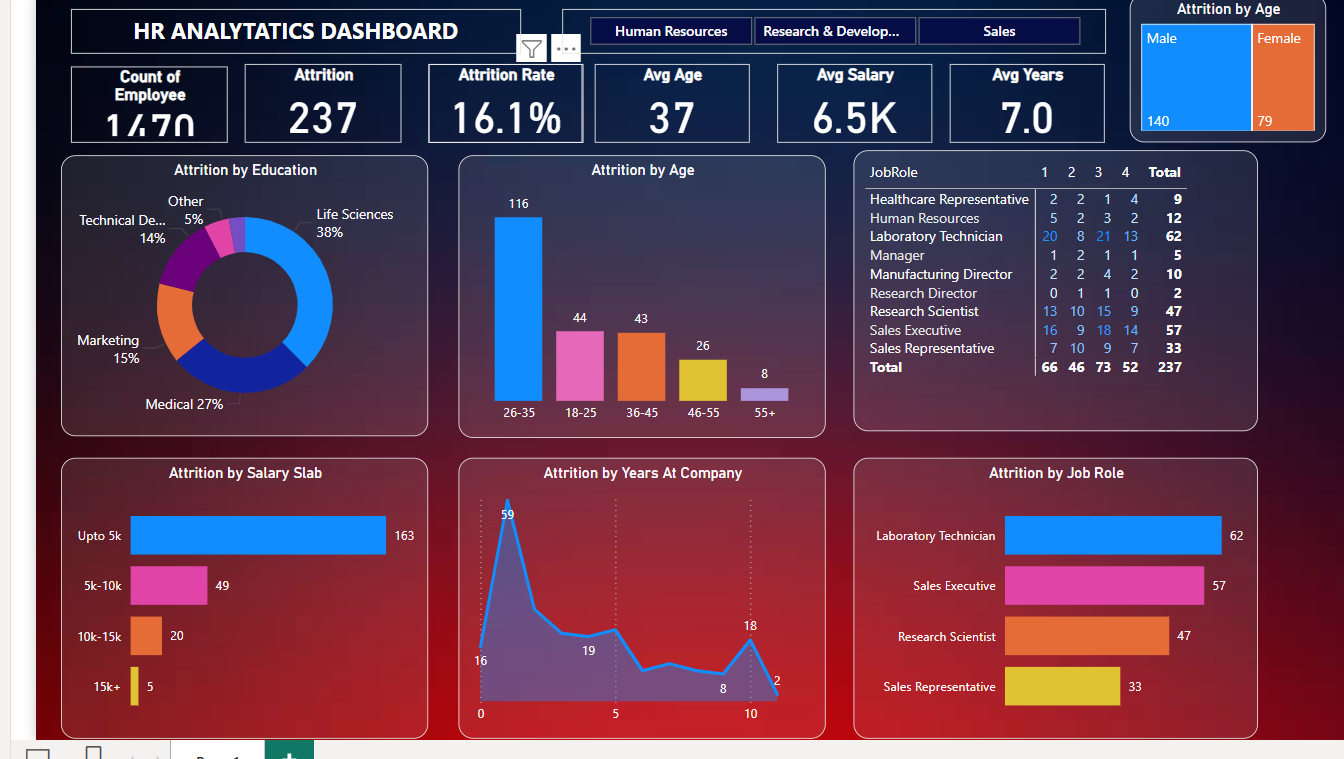

This screenshot's page, from the dashboard's own definition file:
{"tool":"powerbi","page":{"name":"Page 1","canvas":[1280,720],"ordinal":0},"visuals":[{"type":"card","title":"Count of Employee ","fields":{"Values":["CountNonNull(HR_Analytics.EmpID)"]},"box":[33.9,69.7,151.4,73.7],"z":0},{"type":"card","title":"Attrition","fields":{"Values":["Sum(HR_Analytics.attritioncount)"]},"box":[201.2,67.7,151.4,75.7],"z":1000},{"type":"card","title":"Attrition Rate","fields":{"Values":["HR_Analytics.AtrritionRate"]},"box":[378.4,67.7,149.4,75.7],"z":2000},{"type":"card","title":"Avg Age","fields":{"Values":["Avg(HR_Analytics.Age)"]},"box":[539.8,67.7,149.4,75.7],"z":3000},{"type":"card","title":"Avg Salary","fields":{"Values":["Avg(HR_Analytics.MonthlyIncome)"]},"box":[715,67.7,149.4,75.7],"z":4000},{"type":"card","title":"Avg Years","fields":{"Values":["Avg(HR_Analytics.YearsAtCompany)"]},"box":[882.3,67.7,149.4,75.7],"z":5000},{"type":"donutChart","title":"Attrition by Education","fields":{"Category":["HR_Analytics.EducationField"],"Y":["Sum(HR_Analytics.attritioncount)"]},"box":[23.9,155.4,354.5,270.9],"z":6000},{"type":"columnChart","title":"Attrition by Age","fields":{"Category":["HR_Analytics.AgeGroup"],"Y":["Sum(HR_Analytics.attritioncount)"]},"box":[408.3,155.4,354.5,272.9],"z":7000},{"type":"pivotTable","fields":{"Rows":["HR_Analytics.JobRole"],"Columns":["HR_Analytics.JobSatisfaction"],"Values":["Sum(HR_Analytics.attritioncount)"]},"box":[788.7,151.4,390.4,270.9],"z":8000},{"type":"barChart","title":"Attrition by Salary Slab","fields":{"Category":["HR_Analytics.SalarySlab"],"Y":["Sum(HR_Analytics.attritioncount)"]},"box":[23.9,448.1,354.5,270.9],"z":9000},{"type":"barChart","title":"Attrition by Job Role","fields":{"Y":["Sum(HR_Analytics.attritioncount)"],"Category":["HR_Analytics.JobRole"]},"box":[788.7,448.1,390.4,270.9],"z":10000},{"type":"areaChart","title":"Attrition by Years At Company","fields":{"Category":["HR_Analytics.YearsAtCompany"],"Y":["Sum(HR_Analytics.attritioncount)"]},"box":[408.3,448.1,354.5,270.9],"z":11000},{"type":"treemap","title":"Attrition by Age","fields":{"Group":["HR_Analytics.Gender"],"Values":["Sum(HR_Analytics.attritioncount)"]},"box":[1055.6,0,189.2,143.4],"z":12000},{"type":"slicer","fields":{"Values":["HR_Analytics.Department"]},"box":[507.4,14.3,524.9,42.9],"z":13000},{"type":"textbox","box":[33.4,14.3,434.2,42.9],"z":14000}]}

Visuals, with their boxes in screenshot pixels (x1, y1, x2, y2):
"Count of Employee " card: [left=67, top=65, right=223, bottom=141]
"Attrition" card: [left=240, top=63, right=397, bottom=141]
"Attrition Rate" card: [left=423, top=63, right=578, bottom=141]
"Avg Age" card: [left=590, top=63, right=745, bottom=141]
"Avg Salary" card: [left=772, top=63, right=927, bottom=141]
"Avg Years" card: [left=945, top=63, right=1100, bottom=141]
"Attrition by Education" donutChart: [left=56, top=154, right=423, bottom=434]
"Attrition by Age" columnChart: [left=454, top=154, right=821, bottom=436]
pivotTable - HR_Analytics.JobRole x HR_Analytics.JobSatisfaction: [left=848, top=150, right=1252, bottom=430]
"Attrition by Salary Slab" barChart: [left=56, top=457, right=423, bottom=738]
"Attrition by Job Role" barChart: [left=848, top=457, right=1252, bottom=738]
"Attrition by Years At Company" areaChart: [left=454, top=457, right=821, bottom=738]
"Attrition by Age" treemap: [left=1125, top=0, right=1320, bottom=141]
slicer - HR_Analytics.Department: [left=557, top=8, right=1100, bottom=52]
textbox: [left=66, top=8, right=516, bottom=52]
